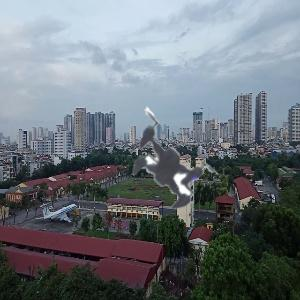drone: (86, 85, 253, 252)
